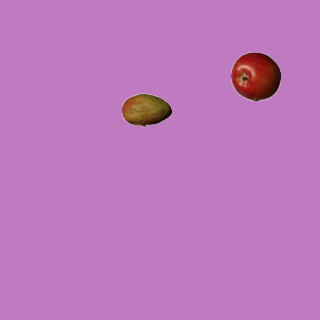Apple Braeburn: (230, 51, 280, 101)
Papaya: (121, 85, 171, 135)
